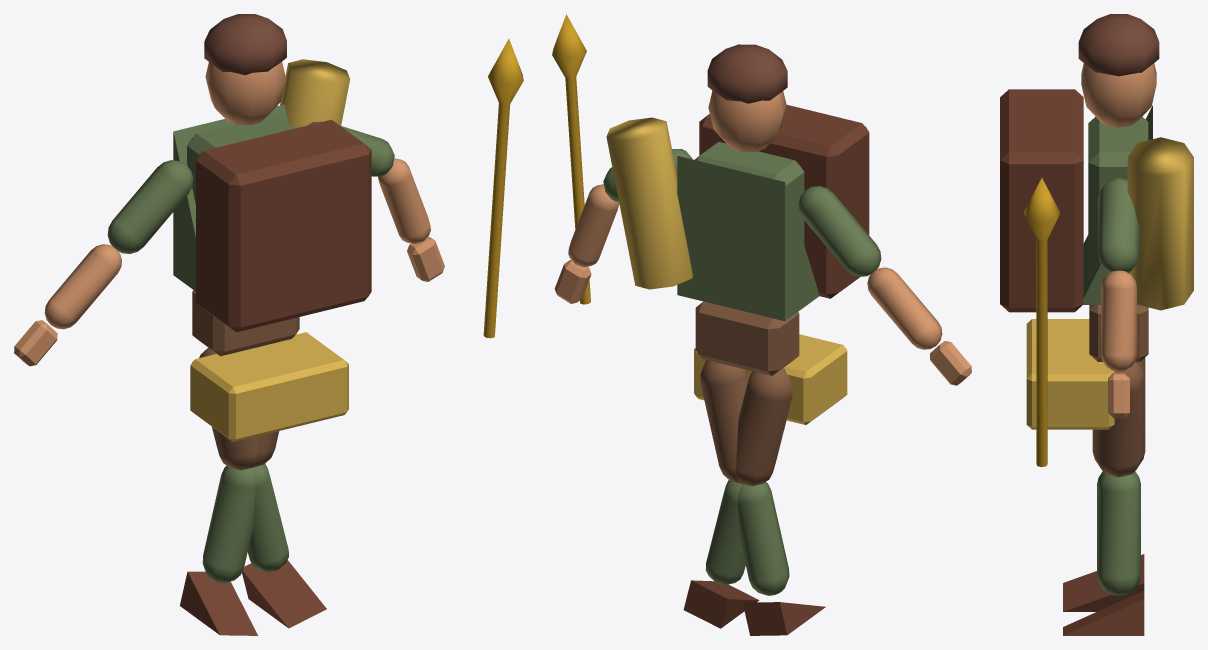
Rendered from adventurer.rustic.glb.
The picture shows the model from 3 angles, left to right: view 1: azimuth 30°, elevation 25°; view 2: azimuth 150°, elevation 25°; view 3: azimuth 270°, elevation 25°; orthographic projection. The views are drawn at different scales.
Parts seen in each view (by area): view 1: accessory.body, accessory.waist, shin.right, accessory.main-hand, upper-arm.left, hair, accessory.back, head, forearm.left, foot.left, foot.right, tunic (+8 smaller); view 2: tunic, accessory.back, accessory.body, pelvis, thigh.left, accessory.waist, shin.right, upper-arm.left, hair, thigh.right, head, forearm.left (+8 smaller); view 3: accessory.body, accessory.back, accessory.waist, shin.left, hair, accessory.main-hand, torso, head, thigh.right, forearm.right, upper-arm.right, foot.left (+4 smaller).
Part boxes in pixels (x1,y1,x2,y2): accessory.body: [196, 119, 371, 332]; accessory.waist: [190, 332, 348, 442]; shin.right: [202, 466, 255, 583]; accessory.main-hand: [483, 39, 523, 338]; upper-arm.left: [107, 160, 193, 253]; hair: [204, 14, 286, 75]; accessory.back: [280, 59, 350, 128]; head: [205, 62, 286, 125]; forearm.left: [44, 244, 121, 329]; foot.left: [242, 560, 326, 628]; foot.right: [180, 571, 257, 635]; tunic: [173, 104, 288, 291]; tunic: [677, 156, 819, 321]; accessory.back: [606, 117, 692, 289]; accessory.body: [699, 105, 869, 298]; pelvis: [695, 301, 799, 375]; thigh.left: [736, 368, 792, 486]; accessory.waist: [694, 334, 847, 424]; shin.right: [738, 482, 789, 595]; upper-arm.left: [798, 186, 881, 276]; hair: [707, 44, 787, 103]; thigh.right: [700, 360, 747, 483]; head: [708, 90, 786, 152]; forearm.left: [867, 267, 942, 349]; accessory.body: [1000, 89, 1083, 312]; accessory.back: [1127, 137, 1193, 310]; accessory.waist: [1026, 319, 1114, 429]; shin.left: [1097, 472, 1140, 595]; hair: [1078, 14, 1159, 76]; accessory.main-hand: [1023, 178, 1060, 466]; torso: [1088, 117, 1148, 278]; head: [1081, 63, 1156, 127]; thigh.right: [1092, 362, 1145, 477]; forearm.right: [1101, 270, 1136, 371]; upper-arm.right: [1098, 178, 1139, 272]; foot.left: [1063, 590, 1144, 635].
Bounding box in the file's own units: 2.48 × 3.01 × 0.88.
